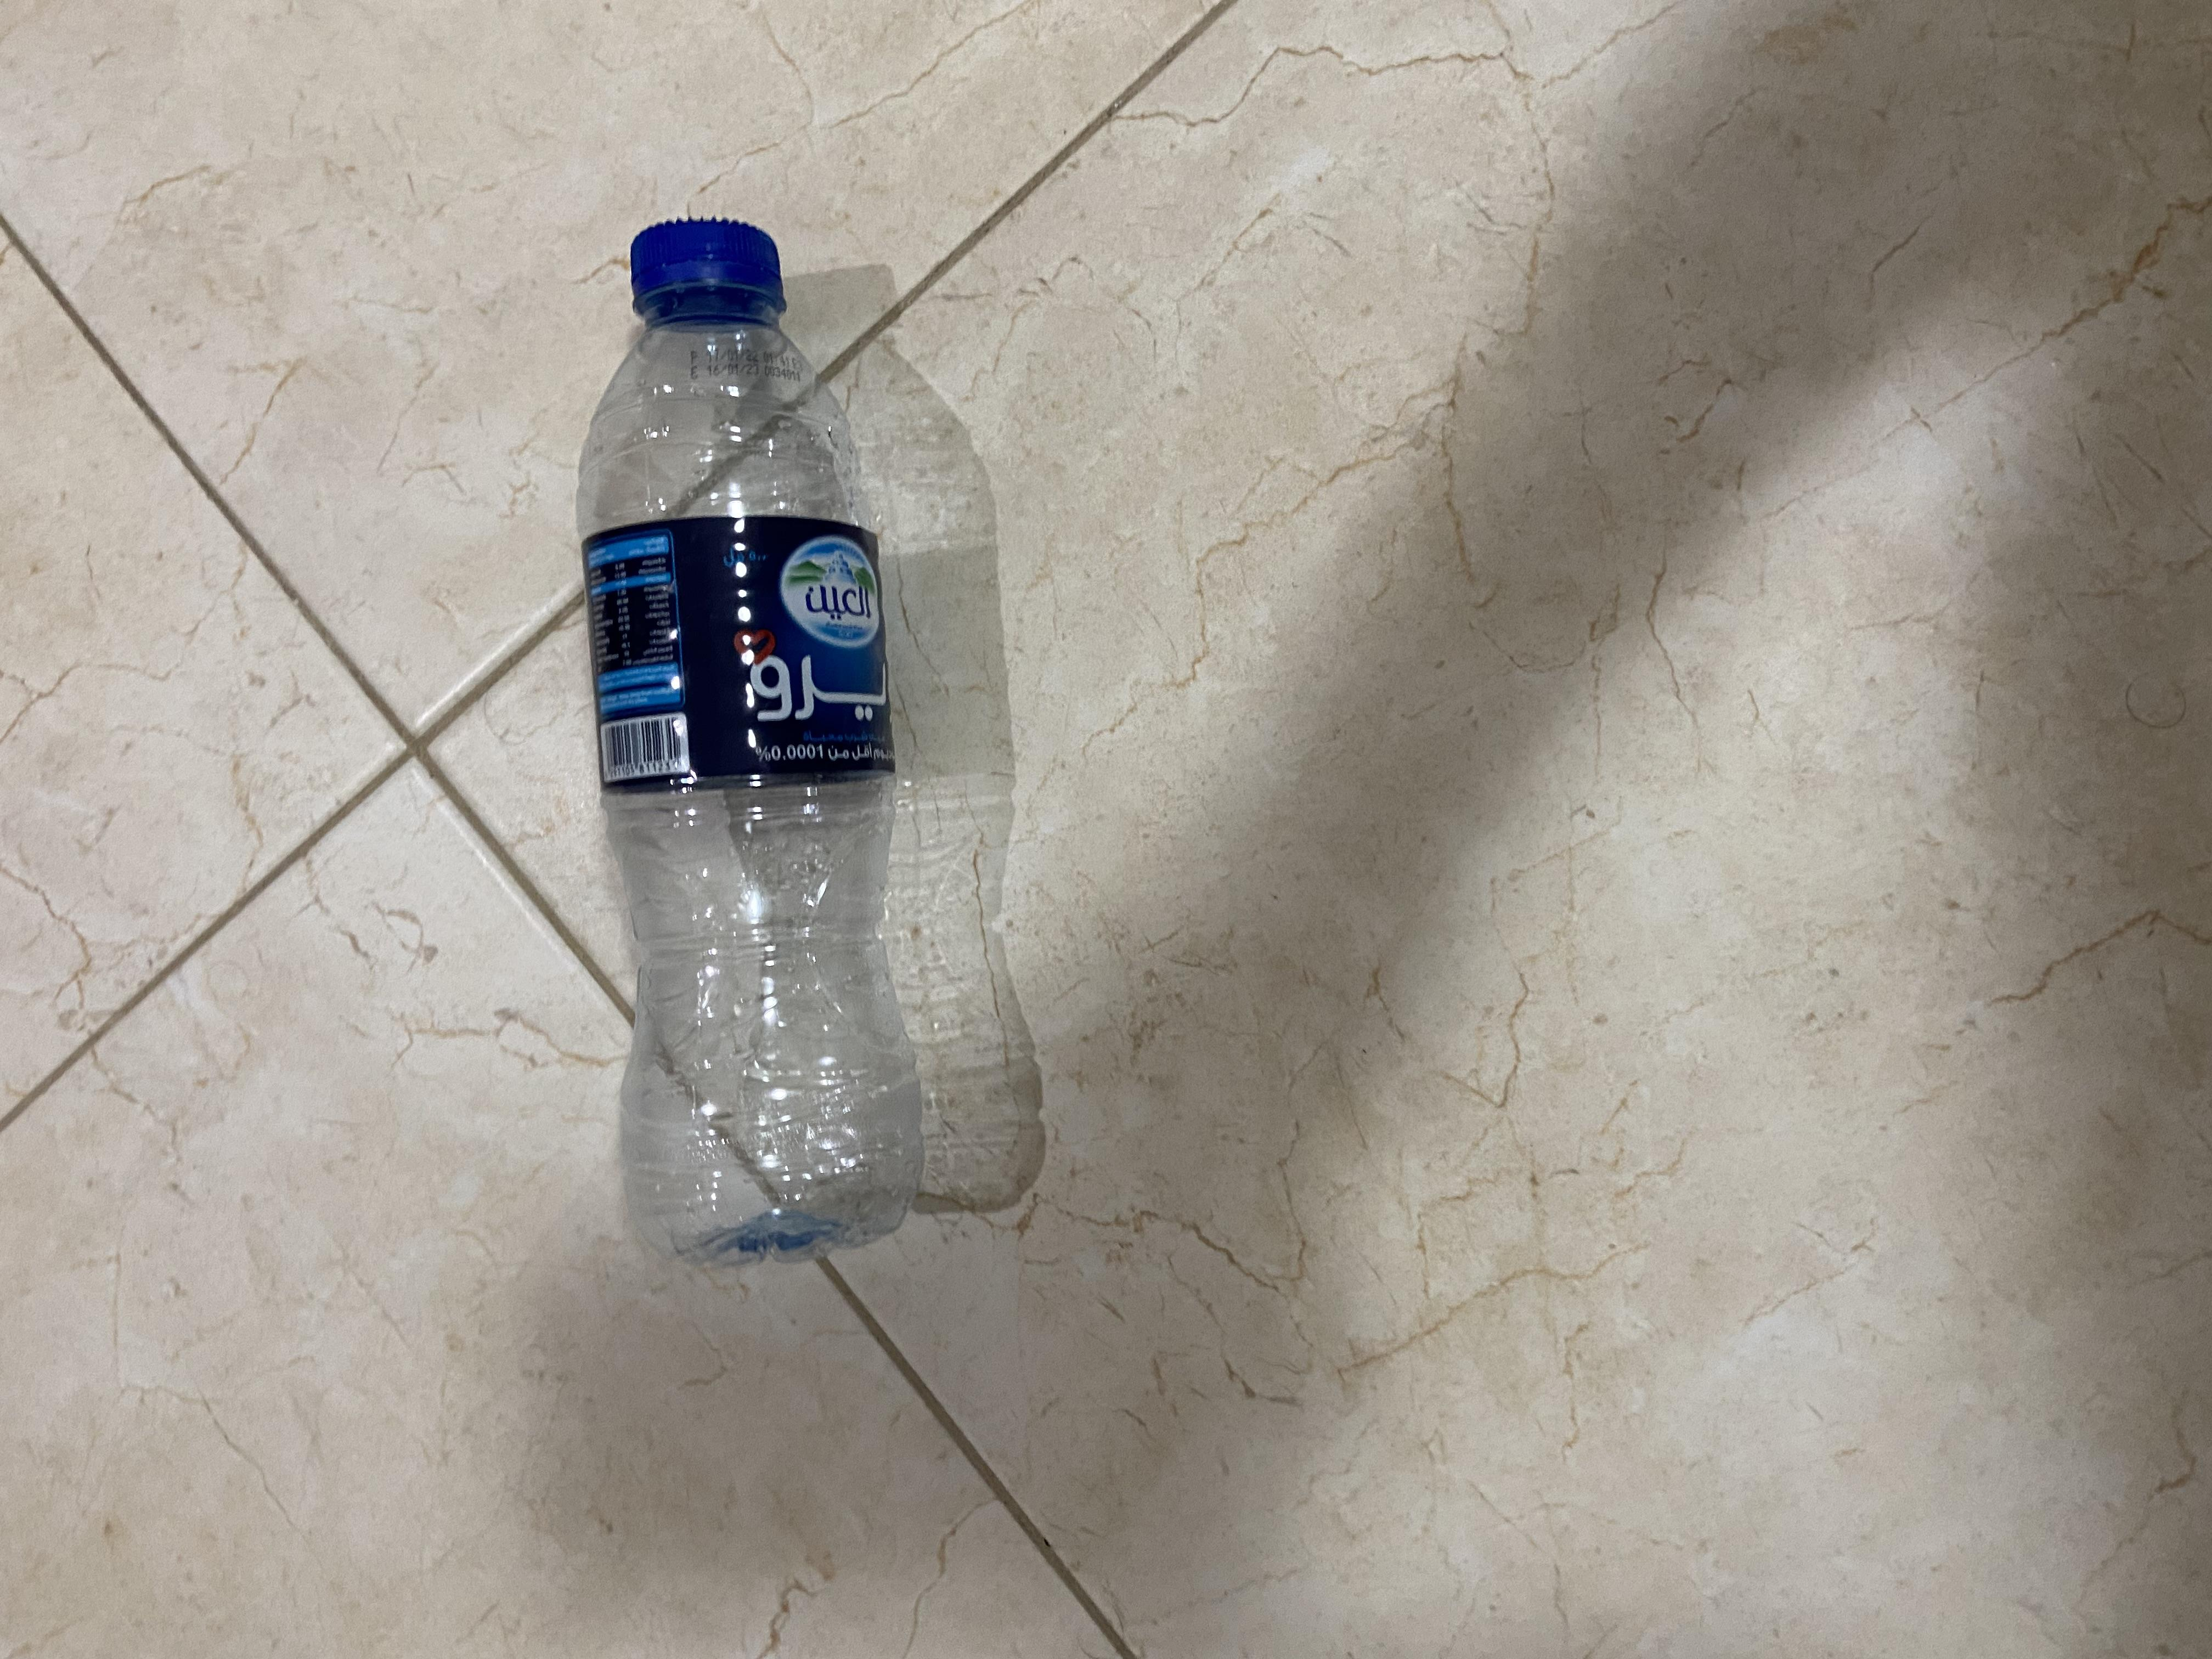bottle: (500, 420, 1970, 706)
